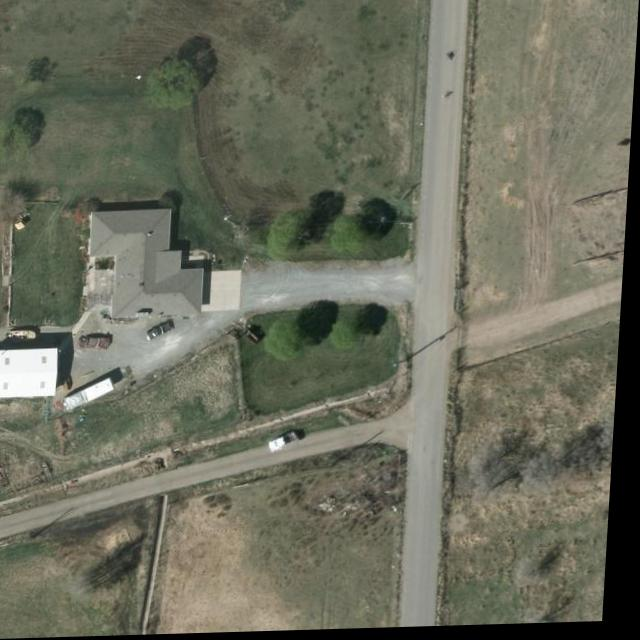vehicle: (274, 432, 307, 454), (148, 321, 178, 343), (80, 337, 115, 351)
